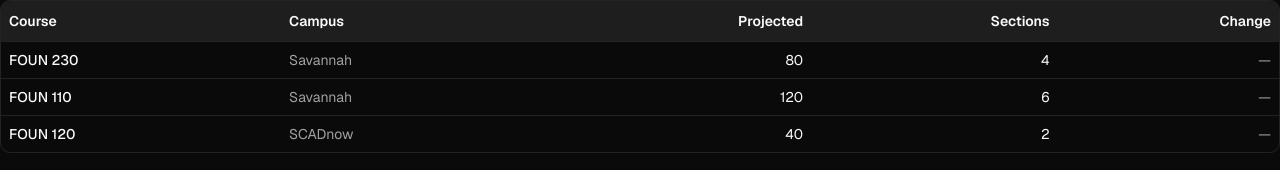
Test case: DataTable › clicking a different header resets sort direction to ascending
The width and height of the screenshot is (1280, 170).
Sort by Course descending first
Step 1. Click the button "Course" → {"x": 33, "y": 21}, box top-left (9, 11), bottom-right (57, 31)
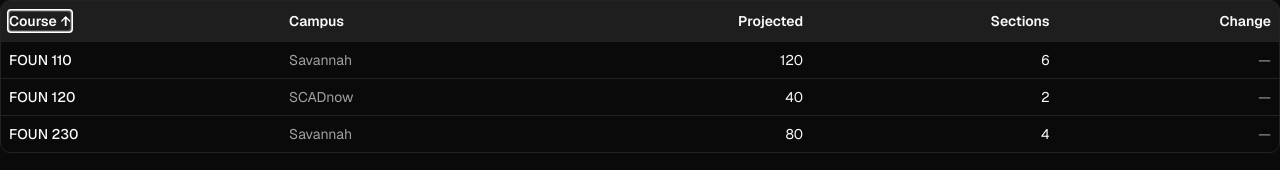
Step 2. Click the button "Course ↑" → {"x": 40, "y": 21}, box top-left (9, 11), bottom-right (71, 31)
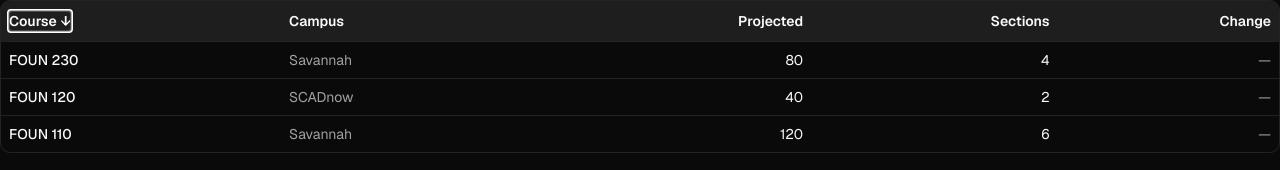
Now click Sections — should sort ascending (smallest first)
Step 3. Click the button "Sections" → {"x": 1020, "y": 21}, box top-left (990, 11), bottom-right (1050, 31)
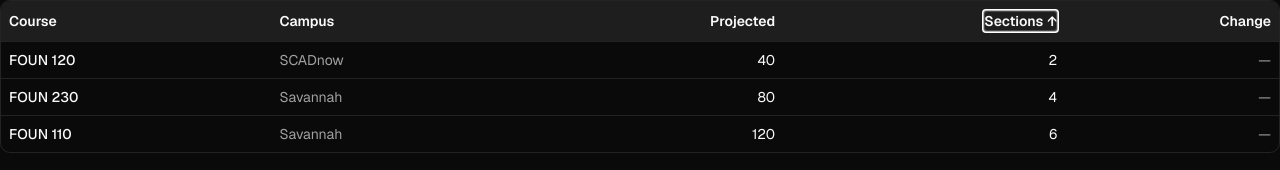
Expected: the cell "FOUN 110" is shown, top-left (1, 115), bottom-right (271, 152)
Expected: the cell "FOUN 120" is shown, top-left (1, 41), bottom-right (271, 78)
